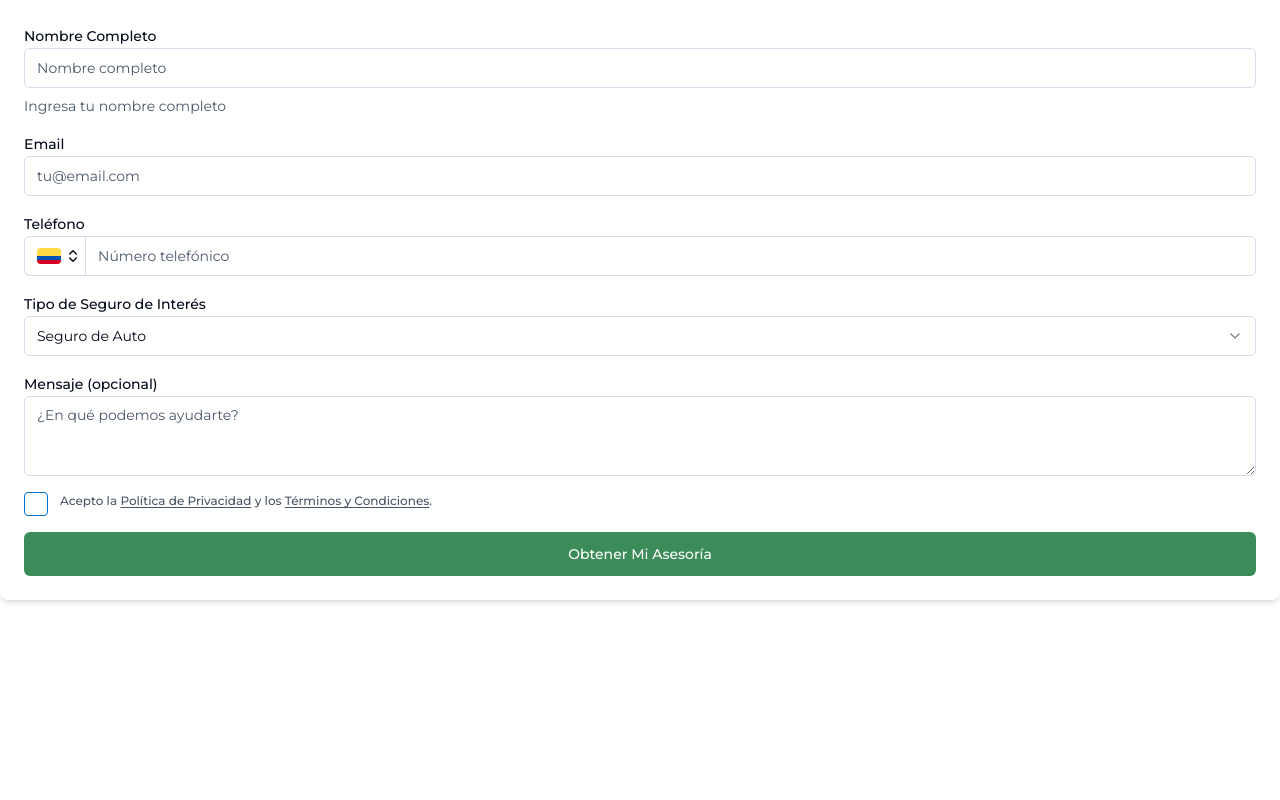
Scenario: LeadForm › Form Validation › validates on submit, not on blur, and clears a message as soon as the field is fixed
Type "Test User" into the field labelled "Nombre Completo" at (640, 68), box top-left (24, 48), bottom-right (1256, 88)
Type "test@example.com" into the field labelled "Email" at (640, 176), box top-left (24, 156), bottom-right (1256, 196)
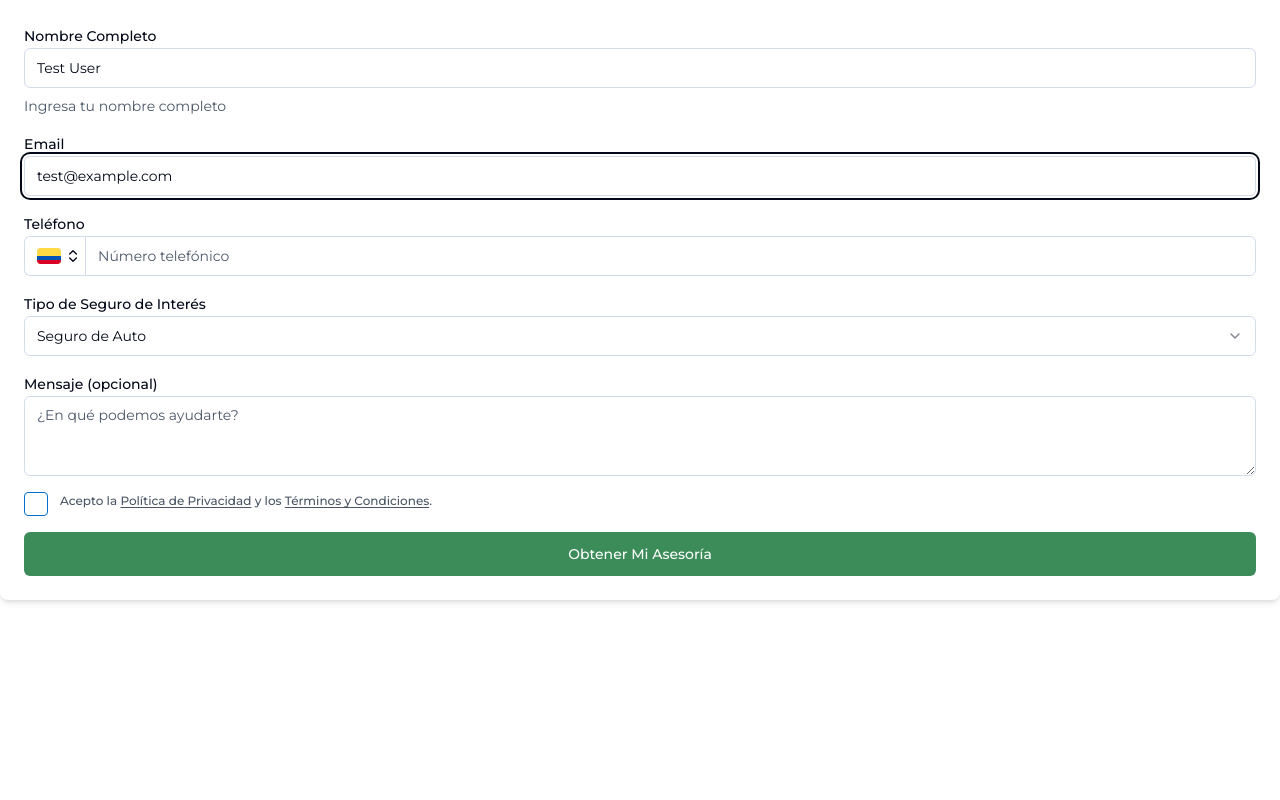
Type "+573001234567" into the field labelled "Teléfono" at (670, 256), box top-left (85, 236), bottom-right (1256, 276)
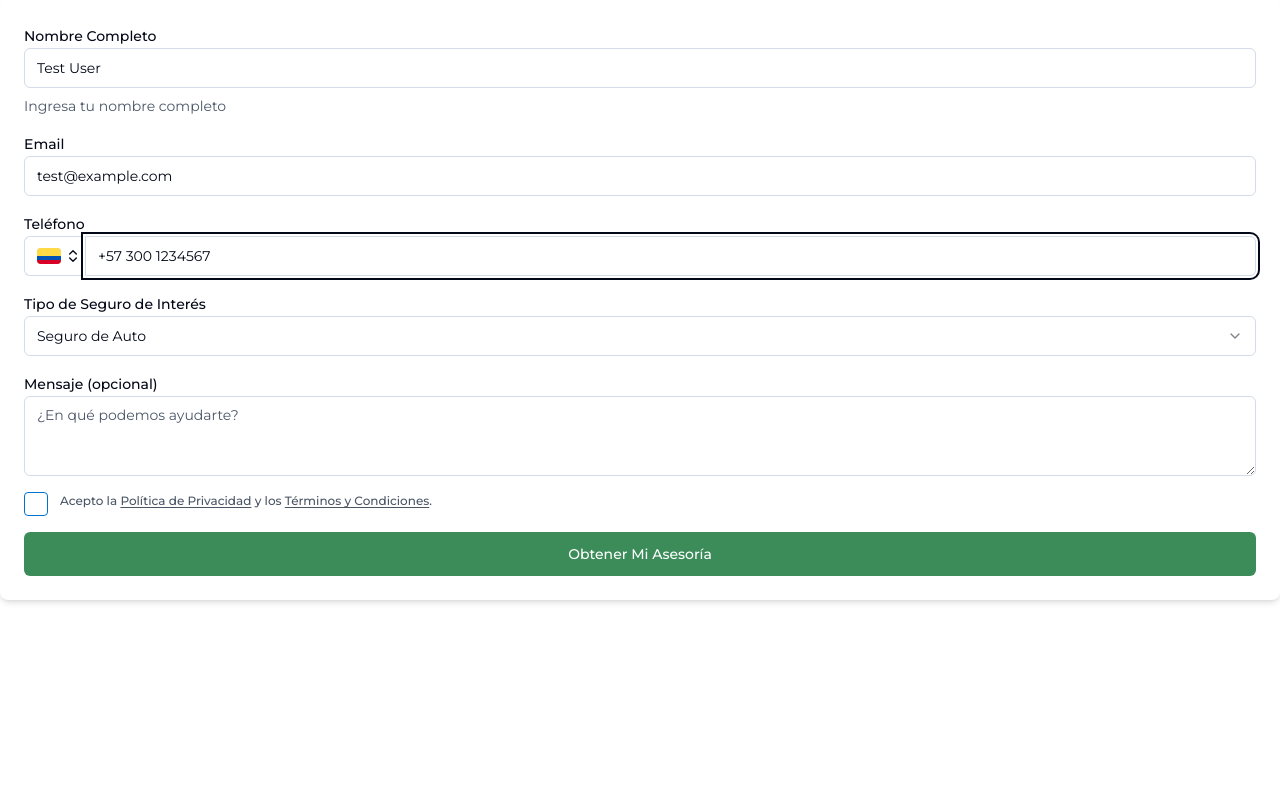
Click the checkbox at (36, 504), box top-left (24, 492), bottom-right (48, 516)
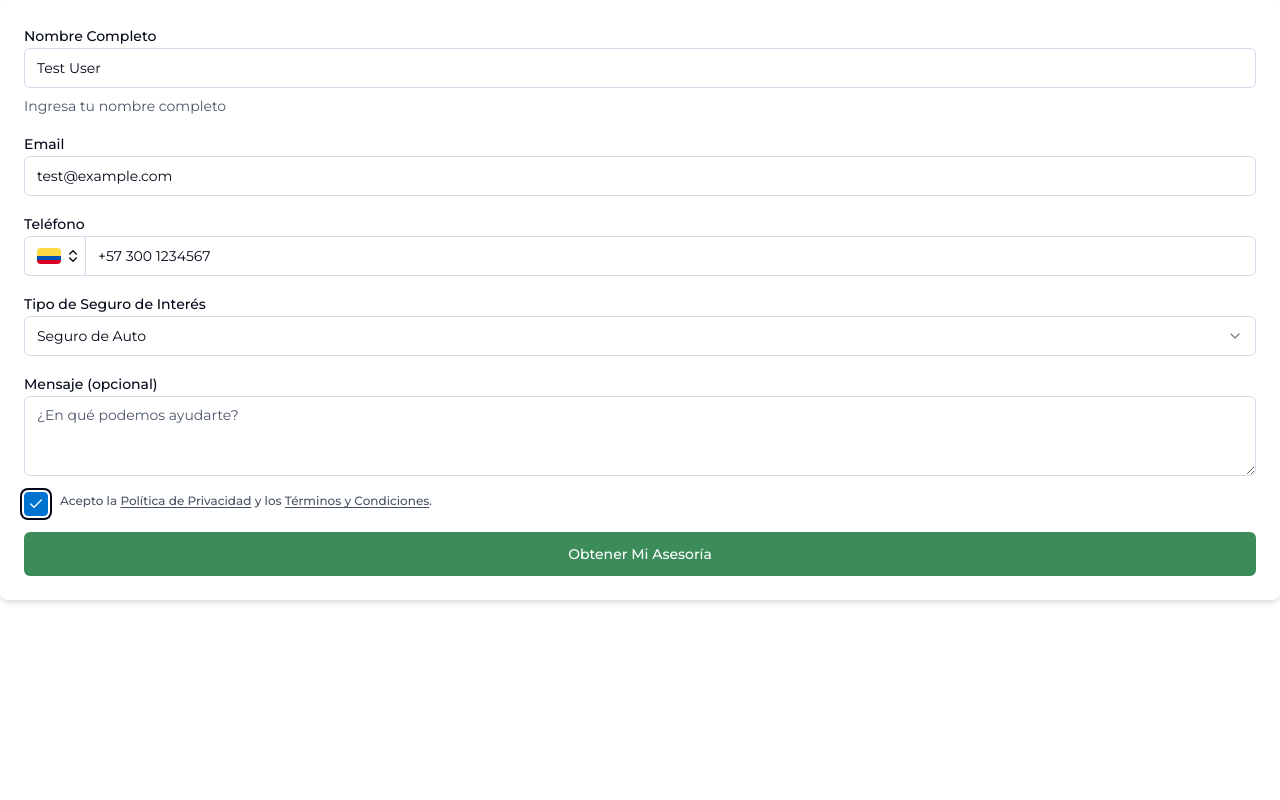
Replace the text in the field labelled "Nombre Completo" with "A" at (640, 68), box top-left (24, 48), bottom-right (1256, 88)
Press Tab
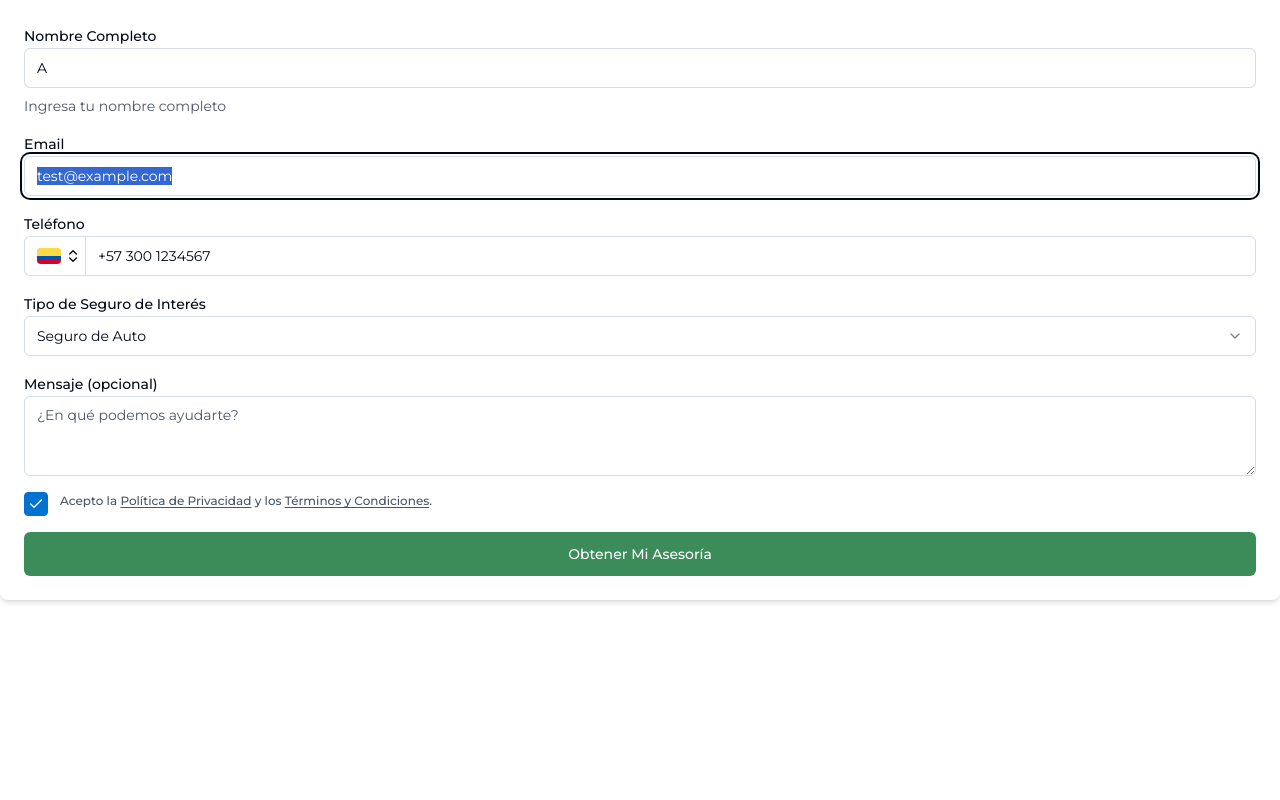
Expected: the text "El nombre es requerido" is not shown
Click the button "Obtener Mi Asesoría" at (640, 554), box top-left (24, 532), bottom-right (1256, 576)
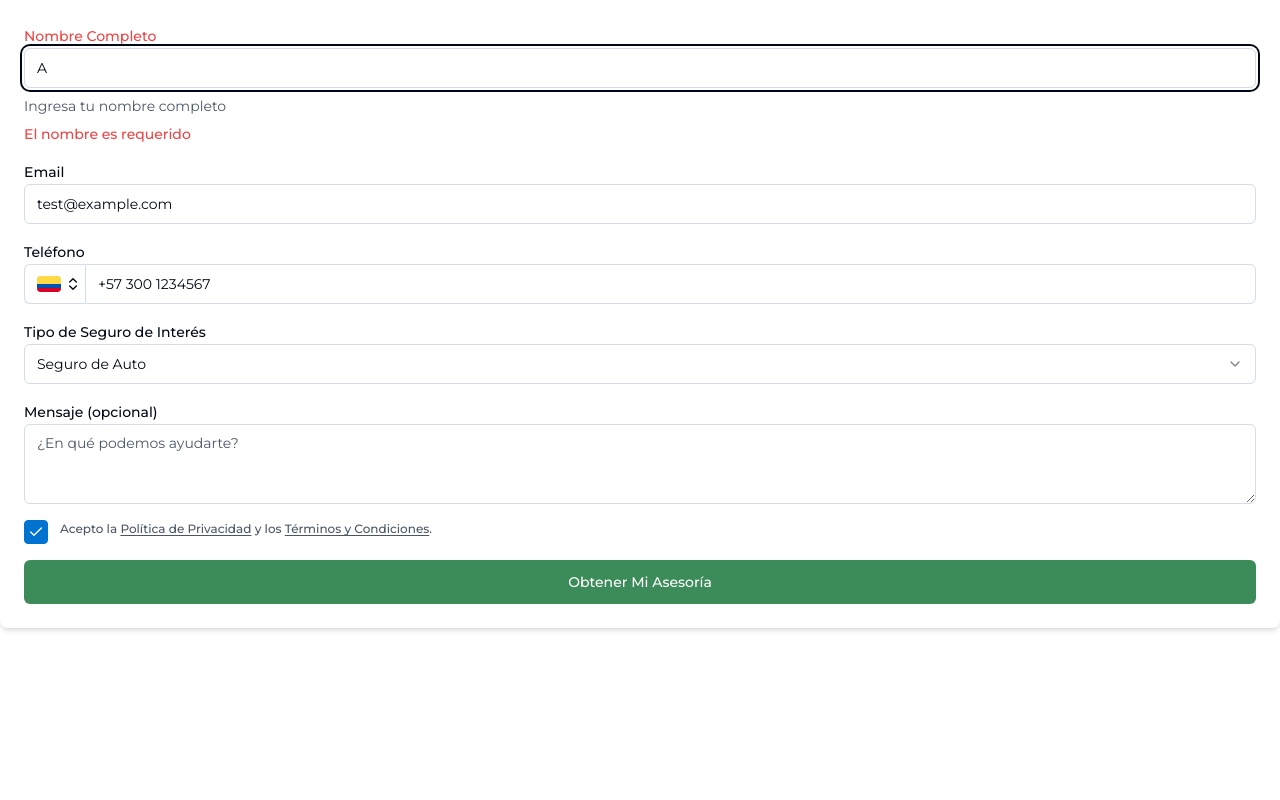
Expected: the text "El nombre es requerido" is shown, top-left (24, 125), bottom-right (191, 143)
Type "na" into the field labelled "Nombre Completo" at (640, 68), box top-left (24, 48), bottom-right (1256, 88)
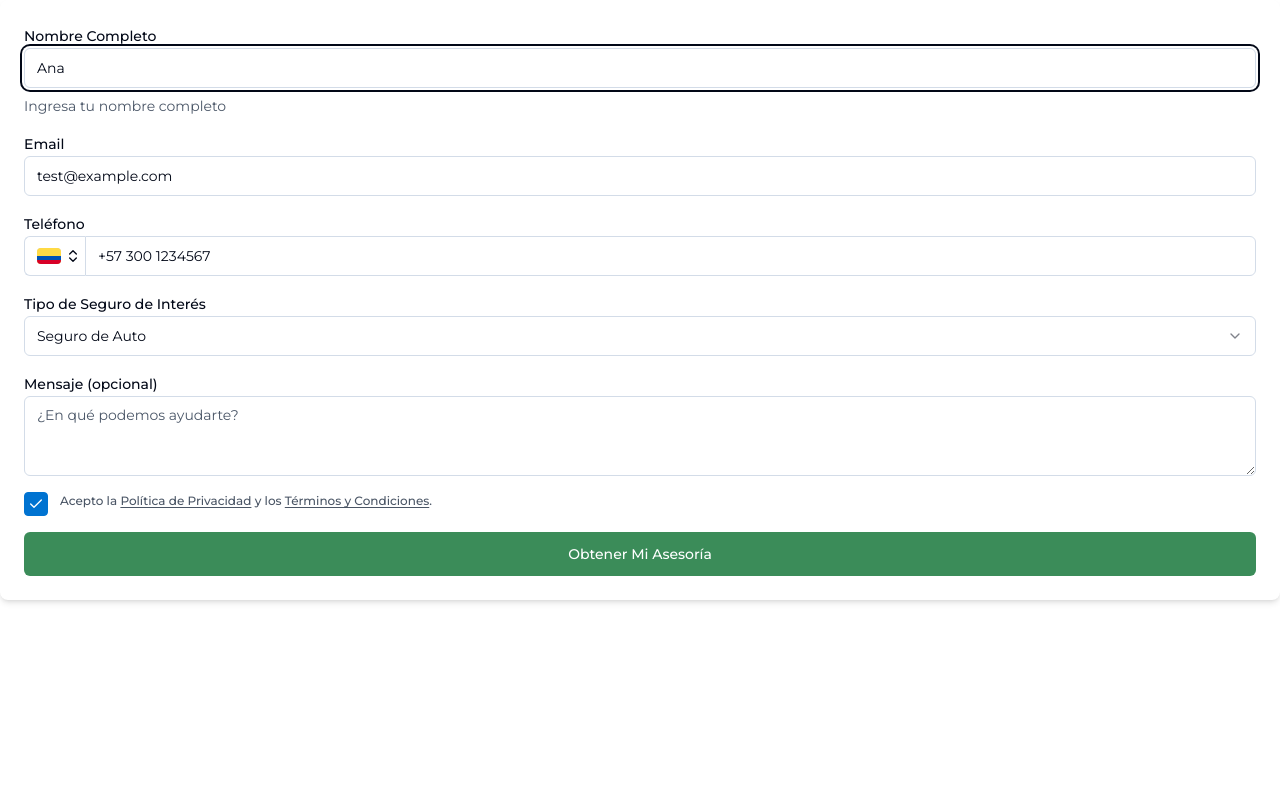
Expected: the text "El nombre es requerido" is gone
